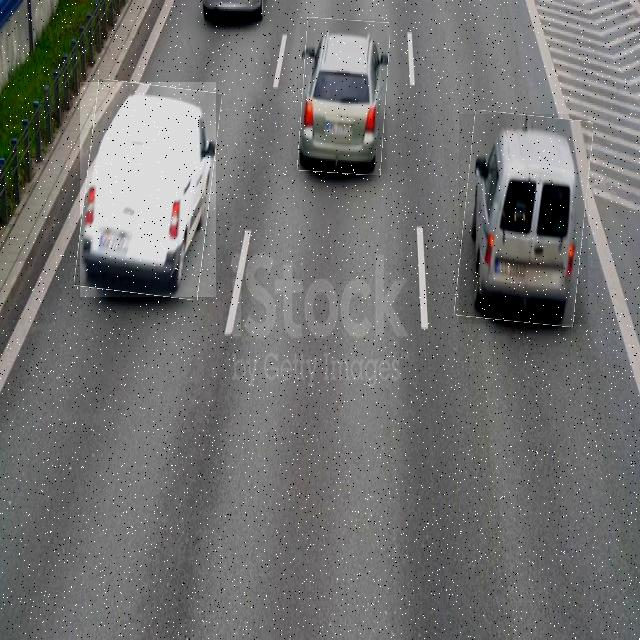Car: (80, 82, 216, 297), (459, 114, 588, 324), (300, 19, 387, 174)
